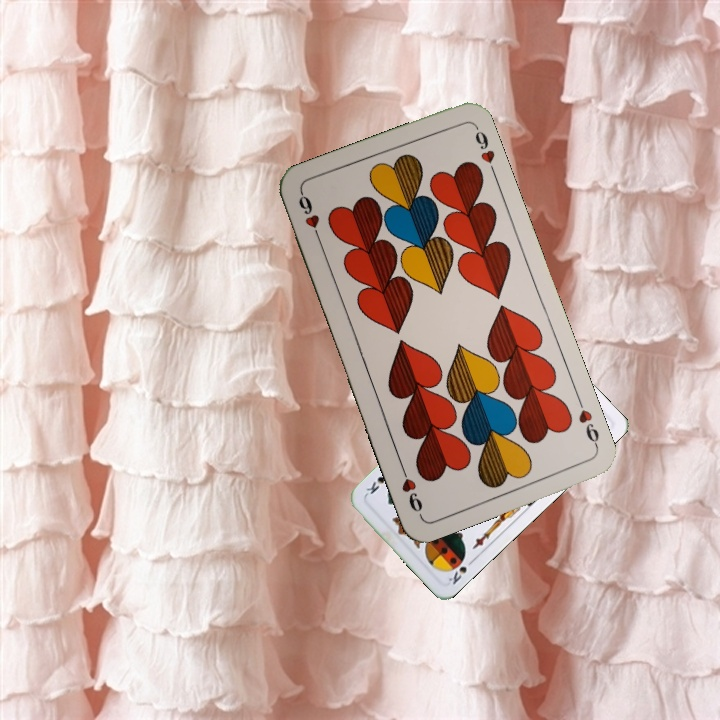H9: (294, 189, 324, 246), (573, 394, 602, 451)
SK: (444, 551, 477, 587)
